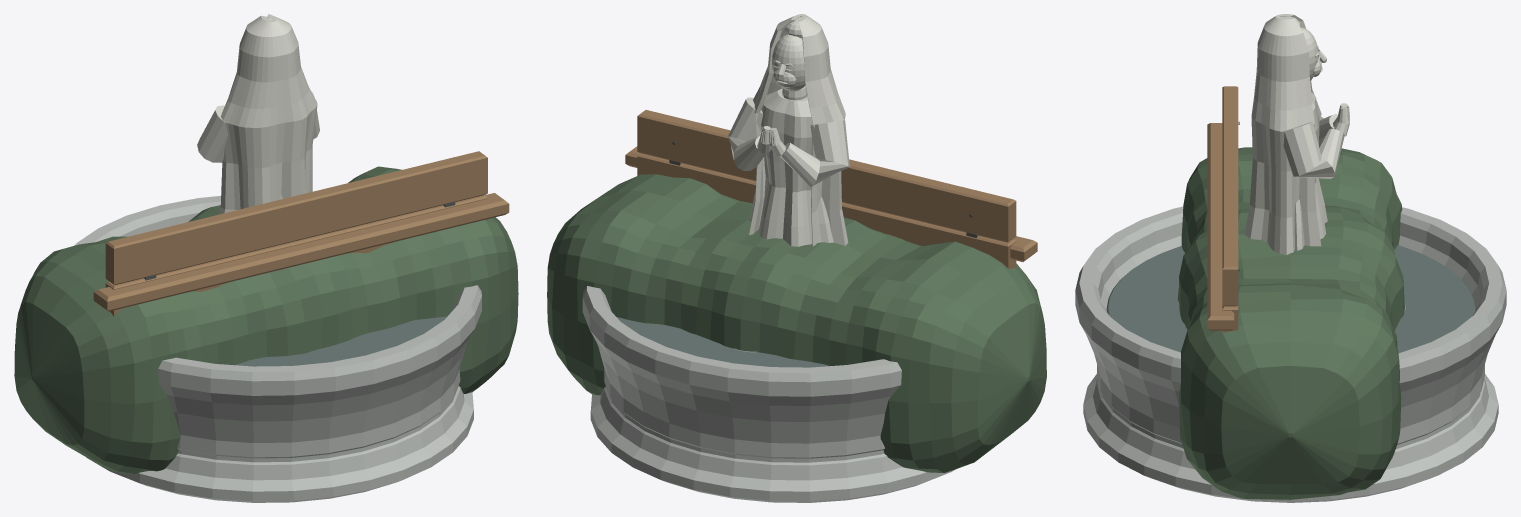
The model's file is ChurchGarden3D.fbx.
3 renders of one model, left to right at view 1: azimuth 30°, elevation 25°; view 2: azimuth 150°, elevation 25°; view 3: azimuth 270°, elevation 25°, orthographic.
Visible parts, largest first — view 1: GEO_HedgeSegment, GEO_FountainStone, GEO_Bench, GEO_MaryStatue, GEO_FountainWater; view 2: GEO_HedgeSegment, GEO_FountainStone, GEO_MaryStatue, GEO_Bench, GEO_FountainWater; view 3: GEO_HedgeSegment, GEO_FountainStone, GEO_MaryStatue, GEO_FountainWater, GEO_Bench.
Boxes of the visible parts, x1,y1,x2,y2 form: GEO_HedgeSegment: (14,166,518,473); GEO_FountainStone: (74,196,481,502); GEO_Bench: (93,151,509,316); GEO_MaryStatue: (197,14,319,214); GEO_FountainWater: (234,316,446,366); GEO_HedgeSegment: (547,174,1046,472); GEO_FountainStone: (582,286,955,502); GEO_MaryStatue: (728,14,849,246); GEO_Bench: (625,110,1037,268); GEO_FountainWater: (617,317,829,367); GEO_HedgeSegment: (1177,147,1404,499); GEO_FountainStone: (1075,206,1506,502); GEO_MaryStatue: (1244,14,1349,254); GEO_FountainWater: (1106,245,1475,352); GEO_Bench: (1207,86,1239,332).
Bounding box in the file's own units: 2 × 1.65 × 1.6.
